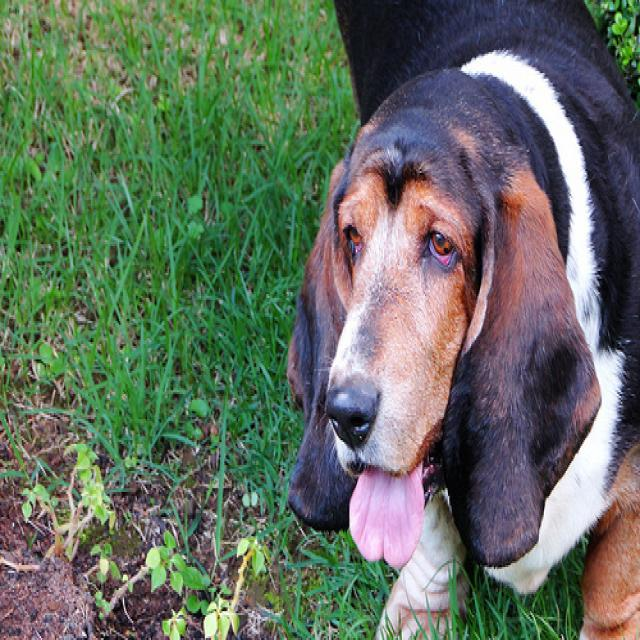dog-basset_hound: (273, 2, 637, 636)
